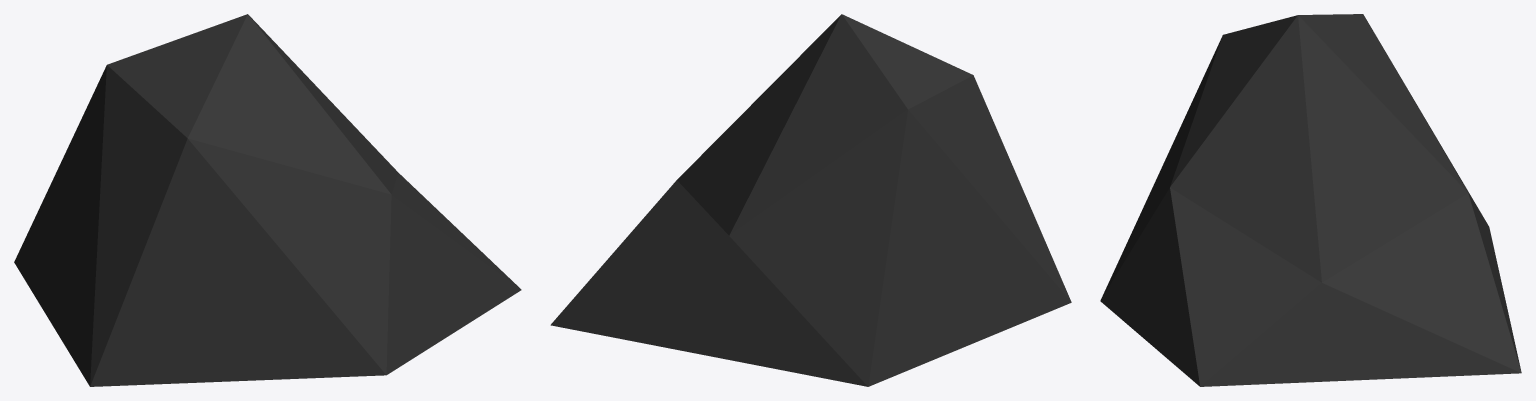
Rendered from RockSmall_6.fbx.
The picture shows the model from 3 angles, left to right: view 1: azimuth 30°, elevation 25°; view 2: azimuth 150°, elevation 25°; view 3: azimuth 270°, elevation 25°; orthographic projection. The views are drawn at different scales.
Visible parts, largest first — view 1: RockSmall6; view 2: RockSmall6; view 3: RockSmall6.
Boxes of the visible parts, x1=… form: RockSmall6: x1=14, y1=14, x2=521, y2=386; RockSmall6: x1=550, y1=14, x2=1071, y2=386; RockSmall6: x1=1100, y1=14, x2=1521, y2=386.
Bounding box in the file's own units: 236 × 155 × 218.
